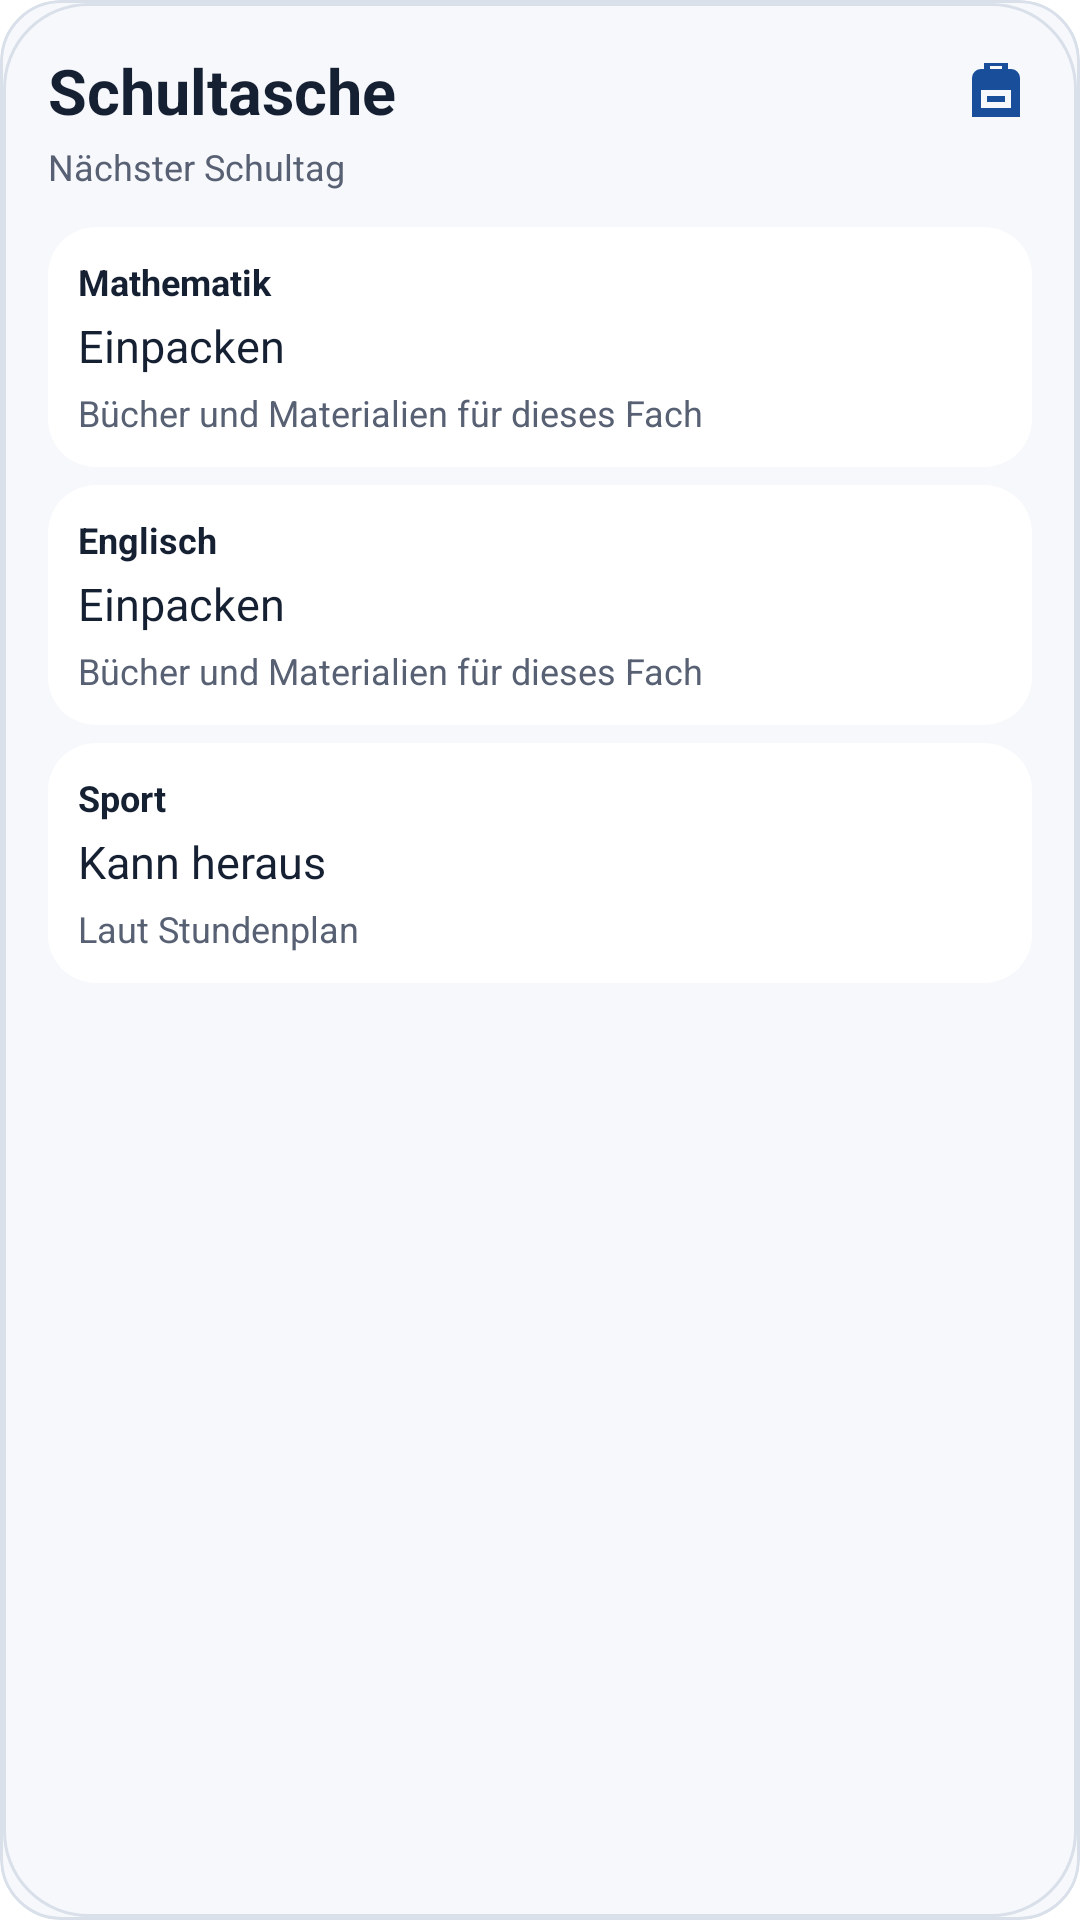

Icons on this 1080w x 1920h Android screen, each with its box as box=[x1, y1, x2, y2]:
widget school bag: box=[972, 63, 1020, 117]
